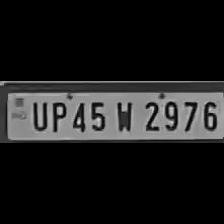2: (138, 97, 162, 132)
4: (68, 98, 88, 132)
5: (86, 98, 108, 132)
6: (199, 98, 219, 132)
7: (180, 98, 198, 132)
9: (160, 98, 180, 132)
P: (47, 98, 66, 132)
U: (28, 98, 48, 132)
W: (111, 97, 137, 132)
